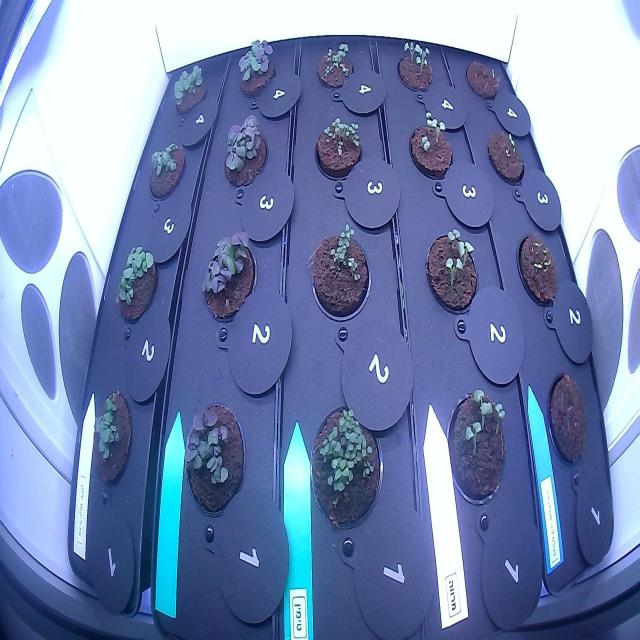germination: (306, 396, 392, 548), (442, 375, 510, 518), (178, 394, 251, 526), (306, 218, 374, 328), (193, 226, 260, 326), (422, 221, 481, 319), (87, 382, 136, 494), (110, 236, 163, 328), (221, 109, 271, 202), (308, 109, 367, 184), (514, 226, 562, 316), (401, 108, 455, 186), (232, 34, 280, 110), (144, 134, 188, 208), (480, 124, 527, 190), (391, 36, 437, 102), (310, 32, 356, 94), (167, 59, 210, 120)
pod: (543, 364, 593, 478), (460, 52, 502, 110)
